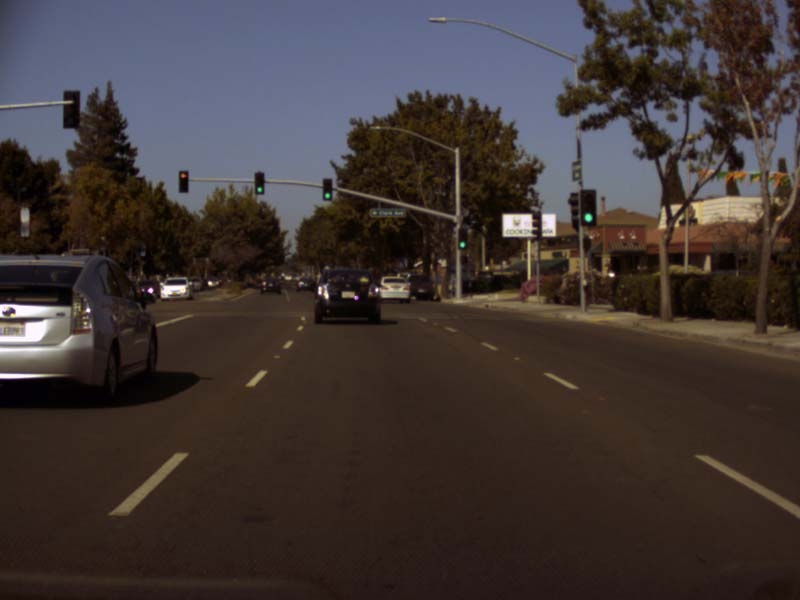Green: (582, 190, 595, 225), (255, 172, 264, 194), (323, 178, 331, 200), (458, 229, 466, 249)
Red: (179, 170, 187, 192)
